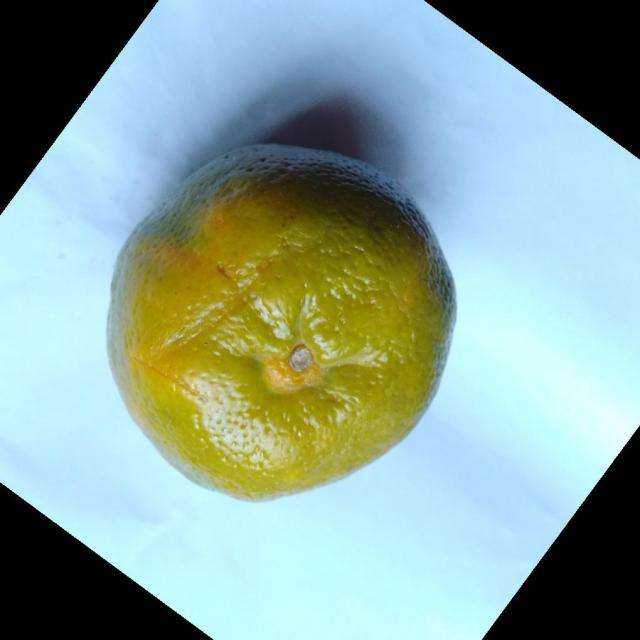fresh orange: (105, 141, 457, 503)
